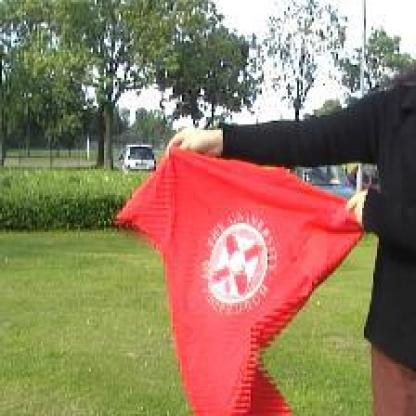other: (109, 136, 370, 410)
